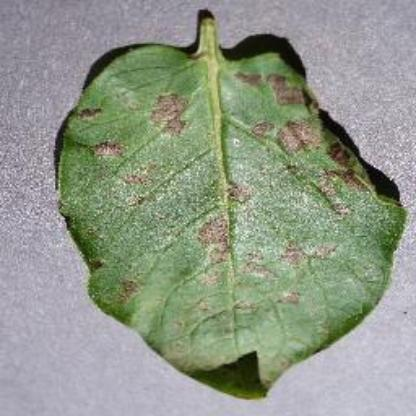Early-Blight: (49, 4, 416, 406)
